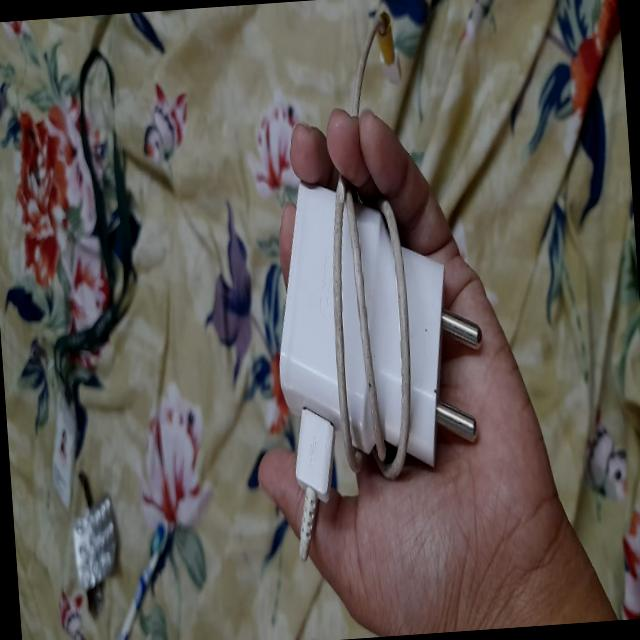Charger - Recyclable: (246, 144, 504, 574)
